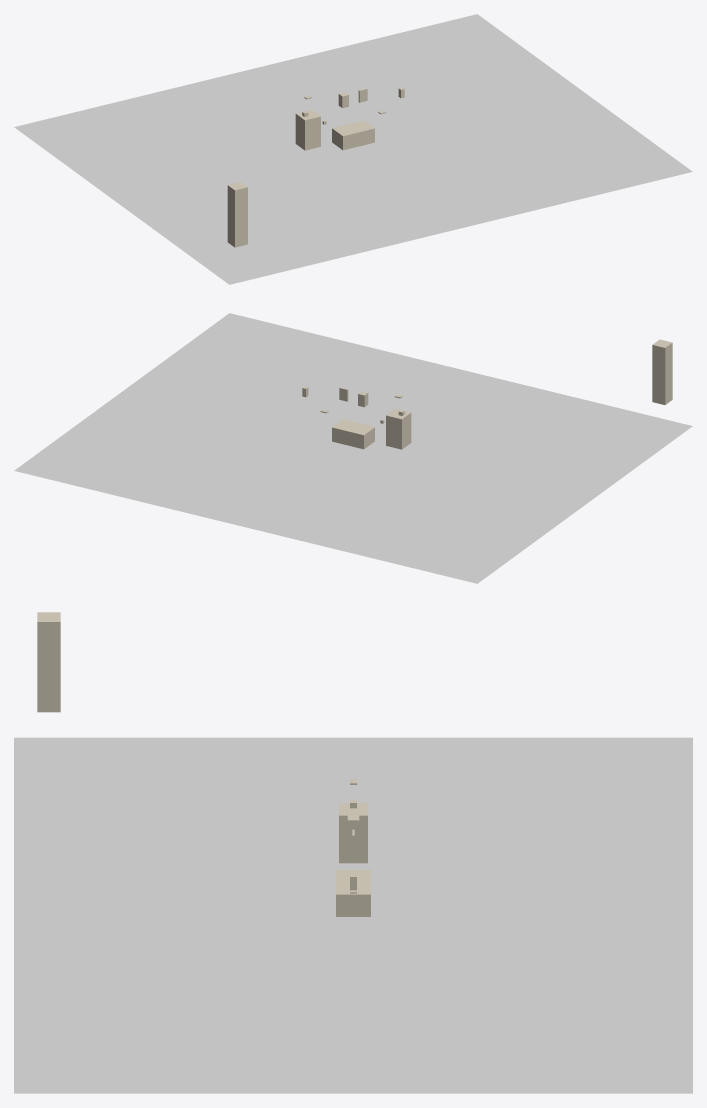
File: smoke-ep-202886.glb
3 renders of one model, top to bottom at view 1: azimuth 30°, elevation 25°; view 2: azimuth 150°, elevation 25°; view 3: azimuth 270°, elevation 25°, orthographic. The views are drawn at different scales.
Parts seen in each view (by area): view 1: Floor, asm_lamp_floor_3, asm_table_coffee_2, asm_chair_standard_1; view 2: Floor, asm_lamp_floor_3, asm_table_coffee_2, asm_chair_standard_1; view 3: Floor, asm_lamp_floor_3, asm_table_coffee_2, asm_chair_standard_1.
Part boxes in pixels (x1,y1,x2,y2): Floor: (14, 14, 692, 284); asm_lamp_floor_3: (227, 182, 247, 247); asm_table_coffee_2: (332, 120, 374, 150); asm_chair_standard_1: (295, 109, 320, 150); Floor: (14, 313, 692, 583); asm_lamp_floor_3: (652, 339, 672, 404); asm_table_coffee_2: (332, 419, 374, 449); asm_chair_standard_1: (386, 408, 411, 449); Floor: (14, 737, 692, 1093); asm_lamp_floor_3: (37, 612, 60, 712); asm_table_coffee_2: (336, 870, 370, 916); asm_chair_standard_1: (339, 803, 367, 863).
Size of the model in its own units: 7.2 by 1.28 by 5.8.
